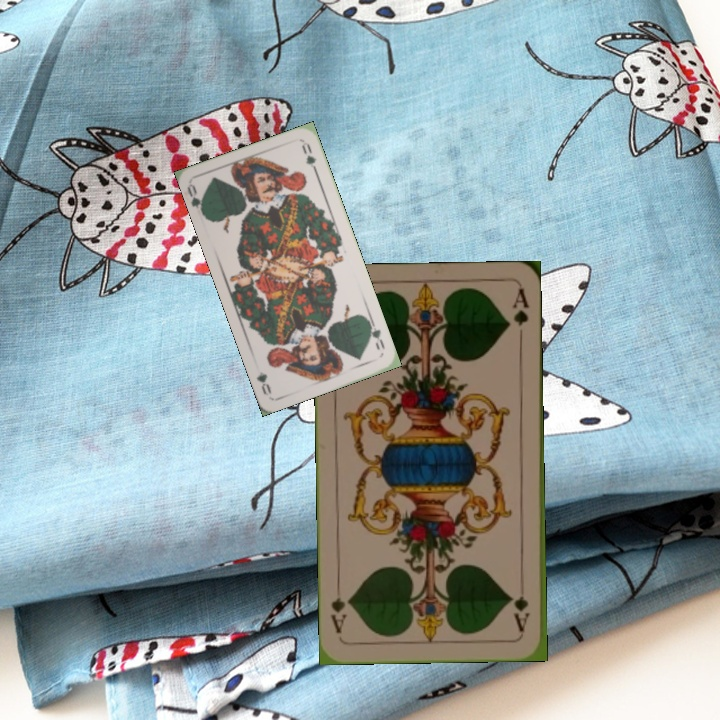GA: (511, 576, 532, 635)
GO: (183, 181, 208, 219), (365, 316, 387, 352)
